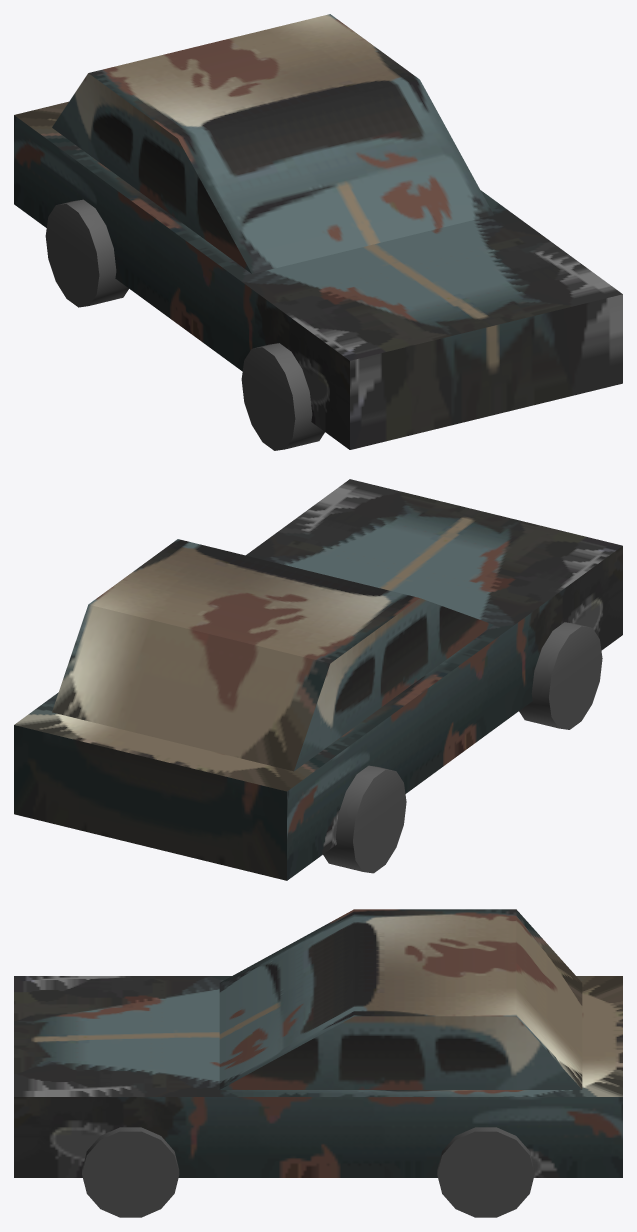
File: Building_AncientRustedCar__C.obj
3 renders of one model, top to bottom at view 1: azimuth 30°, elevation 25°; view 2: azimuth 150°, elevation 25°; view 3: azimuth 270°, elevation 25°, orthographic. The views are drawn at different scales.
Visible parts, largest first — view 1: Body; view 2: Body; view 3: Body.
Part boxes in pixels (bbox=[...]): Body: bbox=[14, 14, 622, 450]; Body: bbox=[14, 479, 622, 880]; Body: bbox=[14, 909, 622, 1217].
Size of the model in its own units: 1.93 by 1.29 by 3.75.
1 material, 1 textured.
